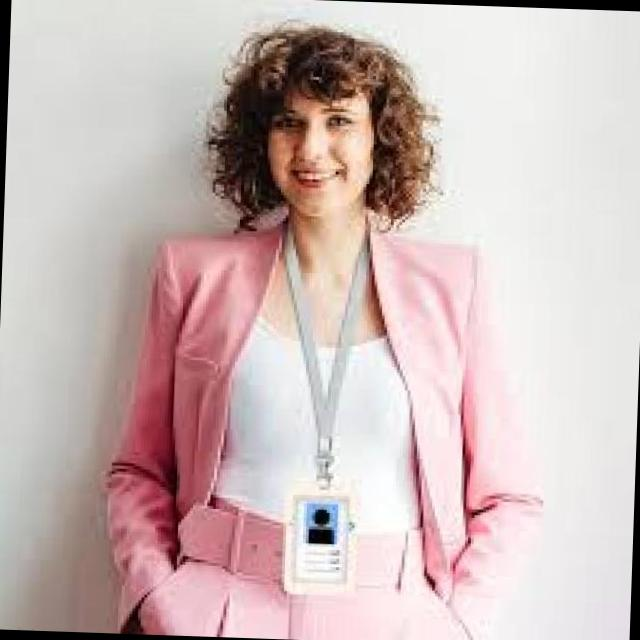id_card: (260, 238, 374, 597)
